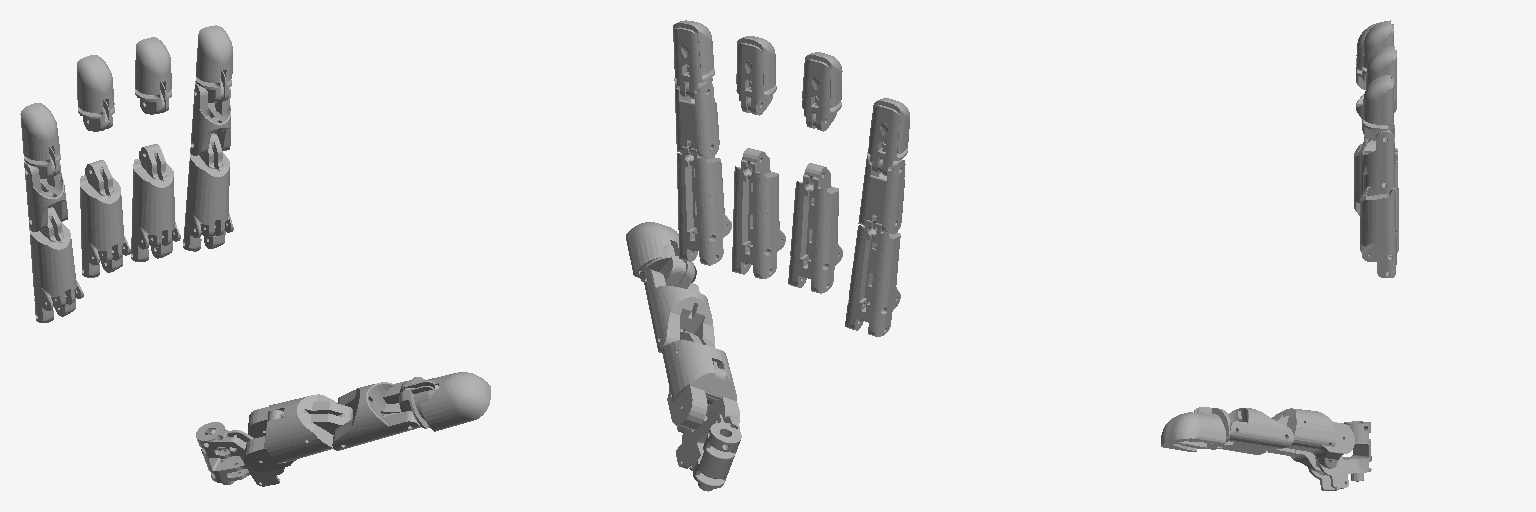
--- Facts derived from the render (not from the file) ---
3 views of the same robot in one strip: view 1: azimuth 30°, elevation 25°; view 2: azimuth 150°, elevation 25°; view 3: azimuth 270°, elevation 25° (orthographic).
Model URDF_09_19_25.SLDASM with 22 links and 21 joints (16 revolute, 5 fixed), rooted at base_link, posed every joint at zero.
Visible links, largest first — view 1: right_thumb_mcp_link, right_middle_proximal_link, right_ring_proximal_link, right_index_proximal_link, right_pinky_proximal_link, right_thumb_proximal_link, right_thumb_tip_link, right_t_link, right_index_middle_link, right_pinky_middle_link, right_pinky_tip_link, right_middle_tip_link (+7 smaller); view 2: right_middle_proximal_link, right_thumb_mcp_link, right_ring_proximal_link, right_index_proximal_link, right_pinky_proximal_link, right_thumb_proximal_link, right_t_link, right_index_middle_link, right_pinky_middle_link, right_middle_distal_link, right_ring_distal_link, right_pinky_distal_link (+7 smaller); view 3: right_thumb_mcp_link, right_index_proximal_link, right_thumb_proximal_link, right_t_link, right_thumb_tip_link, right_index_middle_link, right_index_tip_link, right_ring_tip_link, right_middle_tip_link, right_thumb_distal_link.
Boxes of the visible links, <box> form: right_thumb_mcp_link: <box>244,394,352,471</box>; right_middle_proximal_link: <box>131,144,180,261</box>; right_ring_proximal_link: <box>80,160,130,277</box>; right_index_proximal_link: <box>183,133,233,251</box>; right_pinky_proximal_link: <box>29,207,83,322</box>; right_thumb_proximal_link: <box>332,381,420,450</box>; right_thumb_tip_link: <box>420,372,490,431</box>; right_t_link: <box>196,422,284,486</box>; right_index_middle_link: <box>190,83,230,155</box>; right_pinky_middle_link: <box>24,161,67,231</box>; right_pinky_tip_link: <box>20,103,59,160</box>; right_middle_tip_link: <box>135,37,171,94</box>; right_middle_proximal_link: <box>732,148,785,278</box>; right_thumb_mcp_link: <box>662,332,739,432</box>; right_ring_proximal_link: <box>788,163,842,293</box>; right_index_proximal_link: <box>677,141,731,265</box>; right_pinky_proximal_link: <box>845,215,900,336</box>; right_thumb_proximal_link: <box>643,269,714,352</box>; right_t_link: <box>676,414,741,491</box>; right_index_middle_link: <box>674,78,719,158</box>; right_pinky_middle_link: <box>858,152,905,234</box>; right_middle_distal_link: <box>736,43,776,115</box>; right_ring_distal_link: <box>802,59,841,131</box>; right_pinky_distal_link: <box>868,105,907,175</box>; right_thumb_mcp_link: <box>1268,408,1354,471</box>; right_index_proximal_link: <box>1360,182,1396,277</box>; right_thumb_proximal_link: <box>1219,408,1293,454</box>; right_t_link: <box>1308,421,1371,490</box>; right_thumb_tip_link: <box>1161,412,1225,451</box>; right_index_middle_link: <box>1362,127,1394,193</box>; right_index_tip_link: <box>1363,75,1391,124</box>; right_ring_tip_link: <box>1363,20,1391,67</box>; right_middle_tip_link: <box>1366,46,1394,88</box>; right_thumb_distal_link: <box>1177,407,1233,449</box>.
Size in the robot's own frame: 0.164 by 0.1029 by 0.1934 metres.
Meshes: 22 distinct files referenced, 19 mesh visuals loaded (19 binary STL); not drawn: 3 (reference not matched to a file when rendering).

The robot description file, URDF, robot "URDF_09_19_25.SLDASM":
<?xml version="1.0" encoding="utf-8"?>
<!-- This URDF was automatically created by SolidWorks to URDF Exporter! Originally created by Stephen Brawner ([email redacted]) 
     Commit Version: 1.6.0-4-g7f85cfe  Build Version: 1.6.7995.38578
     For more information, please see http://wiki.ros.org/sw_urdf_exporter -->
<robot
  name="URDF_09_19_25.SLDASM">
  <link
    name="base_link">
    <inertial>
      <origin
        xyz="0.00109122507694746 0.00334946623951281 0.0489855934276007"
        rpy="0 0 0" />
      <mass
        value="0.303576106034272" />
      <inertia
        ixx="0.0003204846476097"
        ixy="2.62190795371995E-06"
        ixz="1.78273132959694E-05"
        iyy="0.000498321260315036"
        iyz="-1.89908549049557E-05"
        izz="0.000236845827410211" />
    </inertial>
    <visual>
      <origin
        xyz="0 0 0"
        rpy="0 0 0" />
      <geometry>
        <mesh
          filename="package://URDF_09_19_25.SLDASM/meshes/base_link.STL" />
      </geometry>
      <material
        name="">
        <color
          rgba="0.698039215686274 0.698039215686274 0.698039215686274 1" />
      </material>
    </visual>
    <collision>
      <origin
        xyz="0 0 0"
        rpy="0 0 0" />
      <geometry>
        <mesh
          filename="package://URDF_09_19_25.SLDASM/meshes/base_link.STL" />
      </geometry>
    </collision>
  </link>
  <link
    name="right_t_link">
    <inertial>
      <origin
        xyz="-0.000883525104759189 0.00170407980029484 0.00831028240403424"
        rpy="0 0 0" />
      <mass
        value="0.00833536405562315" />
      <inertia
        ixx="8.98196341850234E-07"
        ixy="5.06324261689494E-08"
        ixz="7.80847786775035E-08"
        iyy="6.56600038000196E-07"
        iyz="-1.15246746917096E-07"
        izz="4.94642305198558E-07" />
    </inertial>
    <visual>
      <origin
        xyz="0 0 0"
        rpy="0 0 0" />
      <geometry>
        <mesh
          filename="package://URDF_09_19_25.SLDASM/meshes/right_t_link.STL" />
      </geometry>
      <material
        name="">
        <color
          rgba="0.698039215686274 0.698039215686274 0.698039215686274 1" />
      </material>
    </visual>
    <collision>
      <origin
        xyz="0 0 0"
        rpy="0 0 0" />
      <geometry>
        <mesh
          filename="package://URDF_09_19_25.SLDASM/meshes/right_t_link.STL" />
      </geometry>
    </collision>
  </link>
  <joint
    name="right_thumb_cmc_abd"
    type="revolute">
    <origin
      xyz="0.028112 -0.0145 0.025363"
      rpy="-1.3549 0.27644 -2.4646" />
    <parent
      link="base_link" />
    <child
      link="right_t_link" />
    <axis
      xyz="0 1 0" />
    <limit
      lower="-0.92502"
      upper="0.8203"
      effort="0"
      velocity="0" />
  </joint>
  <link
    name="right_thumb_mcp_link">
    <inertial>
      <origin
        xyz="-1.9848E-07 0.00075445 0.014668"
        rpy="0 0 0" />
      <mass
        value="0.008207" />
      <inertia
        ixx="1.1501E-06"
        ixy="1.5891E-11"
        ixz="-2.1442E-11"
        iyy="1.2374E-06"
        iyz="2.9444E-08"
        izz="5.8804E-07" />
    </inertial>
    <visual>
      <origin
        xyz="0 0 0"
        rpy="0 0 0" />
      <geometry>
        <mesh
          filename="package://URDF_09_19_25.SLDASM/meshes/right_thumb_mcp_link.STL" />
      </geometry>
      <material
        name="">
        <color
          rgba="0.69804 0.69804 0.69804 1" />
      </material>
    </visual>
    <collision>
      <origin
        xyz="0 0 0"
        rpy="0 0 0" />
      <geometry>
        <mesh
          filename="package://URDF_09_19_25.SLDASM/meshes/right_thumb_mcp_link.STL" />
      </geometry>
    </collision>
  </link>
  <joint
    name="right_thumb_cmc_flex"
    type="revolute">
    <origin
      xyz="-0.003475 0.003808 0.019656"
      rpy="0.1325 -0.17906 0.26195" />
    <parent
      link="right_t_link" />
    <child
      link="right_thumb_mcp_link" />
    <axis
      xyz="1 0 0" />
    <limit
      lower="0"
      upper="0.9599"
      effort="0"
      velocity="0" />
  </joint>
  <link
    name="right_thumb_proximal_link">
    <inertial>
      <origin
        xyz="7.9121E-09 0.001007 0.011955"
        rpy="0 0 0" />
      <mass
        value="0.005471" />
      <inertia
        ixx="5.6266E-07"
        ixy="-1.2619E-11"
        ixz="4.6488E-12"
        iyy="6.6259E-07"
        iyz="1.0326E-08"
        izz="3.2352E-07" />
    </inertial>
    <visual>
      <origin
        xyz="0 0 0"
        rpy="0 0 0" />
      <geometry>
        <mesh
          filename="package://URDF_09_19_25.SLDASM/meshes/right_thumb_proximal_link.STL" />
      </geometry>
      <material
        name="">
        <color
          rgba="0.69804 0.69804 0.69804 1" />
      </material>
    </visual>
    <collision>
      <origin
        xyz="0 0 0"
        rpy="0 0 0" />
      <geometry>
        <mesh
          filename="package://URDF_09_19_25.SLDASM/meshes/right_thumb_proximal_link.STL" />
      </geometry>
    </collision>
  </link>
  <joint
    name="right_thumb_mcp"
    type="revolute">
    <origin
      xyz="0 0.0033822 0.035848"
      rpy="0 0 0" />
    <parent
      link="right_thumb_mcp_link" />
    <child
      link="right_thumb_proximal_link" />
    <axis
      xyz="1 0 0" />
    <limit
      lower="0"
      upper="1.5708"
      effort="0"
      velocity="0" />
  </joint>
  <link
    name="right_thumb_distal_link">
    <inertial>
      <origin
        xyz="-6.4155E-07 -0.0011983 0.010377"
        rpy="0 0 0" />
      <mass
        value="0.0032396" />
      <inertia
        ixx="2.7433E-07"
        ixy="3.5329E-12"
        ixz="1.7025E-11"
        iyy="2.5791E-07"
        iyz="-5.5405E-08"
        izz="1.196E-07" />
    </inertial>
    <visual>
      <origin
        xyz="0 0 0"
        rpy="0 0 0" />
      <geometry>
        <mesh
          filename="package://URDF_09_19_25.SLDASM/meshes/right_thumb_distal_link.STL" />
      </geometry>
      <material
        name="">
        <color
          rgba="0.69804 0.69804 0.69804 1" />
      </material>
    </visual>
    <collision>
      <origin
        xyz="0 0 0"
        rpy="0 0 0" />
      <geometry>
        <mesh
          filename="package://URDF_09_19_25.SLDASM/meshes/right_thumb_distal_link.STL" />
      </geometry>
    </collision>
  </link>
  <joint
    name="right_thumb_ip"
    type="revolute">
    <origin
      xyz="0 0.002206 0.029919"
      rpy="0 0 0" />
    <parent
      link="right_thumb_proximal_link" />
    <child
      link="right_thumb_distal_link" />
    <axis
      xyz="1 0 0" />
    <limit
      lower="0"
      upper="1.5708"
      effort="0"
      velocity="0" />
  </joint>
  <link
    name="right_thumb_tip_link">
    <inertial>
      <origin
        xyz="2.2383E-07 -0.010203 -0.013939"
        rpy="0 0 0" />
      <mass
        value="0.00086967" />
      <inertia
        ixx="5.0257E-08"
        ixy="-4.472E-12"
        ixz="-3.8747E-12"
        iyy="6.2025E-08"
        iyz="-8.6371E-09"
        izz="3.845E-08" />
    </inertial>
    <visual>
      <origin
        xyz="0 0 0"
        rpy="0 0 0" />
      <geometry>
        <mesh
          filename="package://URDF_09_19_25.SLDASM/meshes/right_thumb_tip_link.STL" />
      </geometry>
      <material
        name="">
        <color
          rgba="0.69804 0.69804 0.69804 1" />
      </material>
    </visual>
    <collision>
      <origin
        xyz="0 0 0"
        rpy="0 0 0" />
      <geometry>
        <mesh
          filename="package://URDF_09_19_25.SLDASM/meshes/right_thumb_tip_link.STL" />
      </geometry>
    </collision>
  </link>
  <joint
    name="right_thumb_tip"
    type="fixed">
    <origin
      xyz="0 0.0059474 0.031823"
      rpy="0 0 0" />
    <parent
      link="right_thumb_distal_link" />
    <child
      link="right_thumb_tip_link" />
    <axis
      xyz="0 0 0" />
  </joint>
  <link
    name="right_index_proximal_link">
    <inertial>
      <origin
        xyz="4.30529992941076E-08 -0.0024559603959039 0.0191142514901699"
        rpy="0 0 0" />
      <mass
        value="0.00720026836301954" />
      <inertia
        ixx="1.11576979742814E-06"
        ixy="-2.42664231429577E-12"
        ixz="-8.53111702205322E-12"
        iyy="1.1011227010753E-06"
        iyz="1.07385658133945E-07"
        izz="2.80496727013047E-07" />
    </inertial>
    <visual>
      <origin
        xyz="0 0 0"
        rpy="0 0 0" />
      <geometry>
        <mesh
          filename="package://URDF_09_19_25.SLDASM/meshes/right_index_proximal_link.STL" />
      </geometry>
      <material
        name="">
        <color
          rgba="0.698039215686274 0.698039215686274 0.698039215686274 1" />
      </material>
    </visual>
    <collision>
      <origin
        xyz="0 0 0"
        rpy="0 0 0" />
      <geometry>
        <mesh
          filename="package://URDF_09_19_25.SLDASM/meshes/right_index_proximal_link.STL" />
      </geometry>
    </collision>
  </link>
  <joint
    name="right_index_mcp_flex"
    type="revolute">
    <origin
      xyz="0.030626 -0.0011782 0.10542"
      rpy="0 0.05236 -0.034907" />
    <parent
      link="base_link" />
    <child
      link="right_index_proximal_link" />
    <axis
      xyz="1 0 0" />
    <limit
      lower="0"
      upper="1.5708"
      effort="0"
      velocity="0" />
  </joint>
  <link
    name="right_index_middle_link">
    <inertial>
      <origin
        xyz="-6.47985752902369E-09 -0.000363269614703799 0.00876079008757696"
        rpy="0 0 0" />
      <mass
        value="0.00276150356687874" />
      <inertia
        ixx="1.80416885776444E-07"
        ixy="1.11705685747945E-13"
        ixz="-3.17914278530766E-14"
        iyy="1.9897239153381E-07"
        iyz="7.6558277494112E-09"
        izz="8.93351684671892E-08" />
    </inertial>
    <visual>
      <origin
        xyz="0 0 0"
        rpy="0 0 0" />
      <geometry>
        <mesh
          filename="package://URDF_09_19_25.SLDASM/meshes/right_index_middle_link.STL" />
      </geometry>
      <material
        name="">
        <color
          rgba="0.698039215686274 0.698039215686274 0.698039215686274 1" />
      </material>
    </visual>
    <collision>
      <origin
        xyz="0 0 0"
        rpy="0 0 0" />
      <geometry>
        <mesh
          filename="package://URDF_09_19_25.SLDASM/meshes/right_index_middle_link.STL" />
      </geometry>
    </collision>
  </link>
  <joint
    name="right_index_pip"
    type="revolute">
    <origin
      xyz="0 -0.0014554 0.043"
      rpy="0 0 0" />
    <parent
      link="right_index_proximal_link" />
    <child
      link="right_index_middle_link" />
    <axis
      xyz="1 0 0" />
    <limit
      lower="0"
      upper="1.5708"
      effort="0"
      velocity="0" />
  </joint>
  <link
    name="right_index_distal_link">
    <inertial>
      <origin
        xyz="3.34671961321059E-07 -0.00120224143694181 0.00777234707760652"
        rpy="0 0 0" />
      <mass
        value="0.00183663667769987" />
      <inertia
        ixx="1.0824117936487E-07"
        ixy="2.22622444751556E-12"
        ixz="4.51561065548065E-13"
        iyy="1.0024267178837E-07"
        iyz="-1.85905628716286E-08"
        izz="3.57211667407306E-08" />
    </inertial>
    <visual>
      <origin
        xyz="0 0 0"
        rpy="0 0 0" />
      <geometry>
        <mesh
          filename="package://URDF_09_19_25.SLDASM/meshes/right_index_distal_link.STL" />
      </geometry>
      <material
        name="">
        <color
          rgba="0.698039215686274 0.698039215686274 0.698039215686274 1" />
      </material>
    </visual>
    <collision>
      <origin
        xyz="0 0 0"
        rpy="0 0 0" />
      <geometry>
        <mesh
          filename="package://URDF_09_19_25.SLDASM/meshes/right_index_distal_link.STL" />
      </geometry>
    </collision>
  </link>
  <joint
    name="right_index_dip"
    type="revolute">
    <origin
      xyz="0 0 0.022"
      rpy="0 0 0" />
    <parent
      link="right_index_middle_link" />
    <child
      link="right_index_distal_link" />
    <axis
      xyz="1 0 0" />
    <limit
      lower="0"
      upper="1.5708"
      effort="0"
      velocity="0" />
  </joint>
  <link
    name="right_index_tip_link">
    <inertial>
      <origin
        xyz="2.3798090519056E-08 -0.00705353273135757 -0.0124434081224676"
        rpy="0 0 0" />
      <mass
        value="0.000390243409160287" />
      <inertia
        ixx="1.25259152366009E-08"
        ixy="4.25868635620944E-13"
        ixz="-9.33846395984465E-14"
        iyy="1.44813957341742E-08"
        iyz="-2.01061097814808E-09"
        izz="8.29652914701066E-09" />
    </inertial>
    <visual>
      <origin
        xyz="0 0 0"
        rpy="0 0 0" />
      <geometry>
        <mesh
          filename="package://URDF_09_19_25.SLDASM/meshes/right_index_tip_link.STL" />
      </geometry>
      <material
        name="">
        <color
          rgba="0.698039215686274 0.698039215686274 0.698039215686274 1" />
      </material>
    </visual>
    <collision>
      <origin
        xyz="0 0 0"
        rpy="0 0 0" />
      <geometry>
        <mesh
          filename="package://URDF_09_19_25.SLDASM/meshes/right_index_tip_link.STL" />
      </geometry>
    </collision>
  </link>
  <joint
    name="right_index_tip"
    type="fixed">
    <origin
      xyz="0 0.003512 0.026776"
      rpy="0 0 0" />
    <parent
      link="right_index_distal_link" />
    <child
      link="right_index_tip_link" />
    <axis
      xyz="0 0 0" />
  </joint>
  <link
    name="right_middle_proximal_link">
    <inertial>
      <origin
        xyz="3.04863738940235E-08 -0.00245596411252013 0.0191142544123753"
        rpy="0 0 0" />
      <mass
        value="0.0072002618370038" />
      <inertia
        ixx="1.11576923655936E-06"
        ixy="-2.87314711925059E-12"
        ixz="-7.93183989281095E-12"
        iyy="1.10112189499846E-06"
        iyz="1.07384680629995E-07"
        izz="2.80496366633981E-07" />
    </inertial>
    <visual>
      <origin
        xyz="0 0 0"
        rpy="0 0 0" />
      <geometry>
        <mesh
          filename="package://URDF_09_19_25.SLDASM/meshes/right_middle_proximal_link.STL" />
      </geometry>
      <material
        name="">
        <color
          rgba="0.698039215686274 0.698039215686274 0.698039215686274 1" />
      </material>
    </visual>
    <collision>
      <origin
        xyz="0 0 0"
        rpy="0 0 0" />
      <geometry>
        <mesh
          filename="package://URDF_09_19_25.SLDASM/meshes/right_middle_proximal_link.STL" />
      </geometry>
    </collision>
  </link>
  <joint
    name="right_middle_mcp_flex"
    type="revolute">
    <origin
      xyz="0.0075 0 0.106"
      rpy="0 0 0" />
    <parent
      link="base_link" />
    <child
      link="right_middle_proximal_link" />
    <axis
      xyz="1 0 0" />
    <limit
      lower="0"
      upper="1.5708"
      effort="0"
      velocity="0" />
  </joint>
  <link
    name="right_middle_link">
    <inertial>
      <origin
        xyz="-2.85973601964011E-09 -0.000363264332488778 0.00876078146450842"
        rpy="0 0 0" />
      <mass
        value="0.00276150069139886" />
      <inertia
        ixx="1.80416617173586E-07"
        ixy="1.53011003427557E-13"
        ixz="-1.41103664305574E-13"
        iyy="1.9897228701034E-07"
        iyz="7.6556903630071E-09"
        izz="8.9334989431654E-08" />
    </inertial>
    <visual>
      <origin
        xyz="0 0 0"
        rpy="0 0 0" />
      <geometry>
        <mesh
          filename="package://URDF_09_19_25.SLDASM/meshes/right_middle_link.STL" />
      </geometry>
      <material
        name="">
        <color
          rgba="0.698039215686274 0.698039215686274 0.698039215686274 1" />
      </material>
    </visual>
    <collision>
      <origin
        xyz="0 0 0"
        rpy="0 0 0" />
      <geometry>
        <mesh
          filename="package://URDF_09_19_25.SLDASM/meshes/right_middle_link.STL" />
      </geometry>
    </collision>
  </link>
  <joint
    name="right_middle_pip"
    type="revolute">
    <origin
      xyz="0 -0.0014554 0.043"
      rpy="0 0 0" />
    <parent
      link="right_middle_proximal_link" />
    <child
      link="right_middle_link" />
    <axis
      xyz="1 0 0" />
    <limit
      lower="0"
      upper="1.5708"
      effort="0"
      velocity="0" />
  </joint>
  <link
    name="right_middle_distal_link">
    <inertial>
      <origin
        xyz="1.25205983373364E-07 -0.00120223641223895 0.00777324919661349"
        rpy="0 0 0" />
      <mass
        value="0.00183690507488675" />
      <inertia
        ixx="1.08253108089546E-07"
        ixy="2.19334961795908E-12"
        ixz="2.52507113254221E-12"
        iyy="1.00254686909563E-07"
        iyz="-1.85902271227329E-08"
        izz="3.57231402201655E-08" />
    </inertial>
    <visual>
      <origin
        xyz="0 0 0"
        rpy="0 0 0" />
      <geometry>
        <mesh
          filename="package://URDF_09_19_25.SLDASM/meshes/right_middle_distal_link.STL" />
      </geometry>
      <material
        name="">
        <color
          rgba="0.698039215686274 0.698039215686274 0.698039215686274 1" />
      </material>
    </visual>
    <collision>
      <origin
        xyz="0 0 0"
        rpy="0 0 0" />
      <geometry>
        <mesh
          filename="package://URDF_09_19_25.SLDASM/meshes/right_middle_distal_link.STL" />
      </geometry>
    </collision>
  </link>
  <joint
    name="right_middle_dip"
    type="revolute">
    <origin
      xyz="0 0 0.022"
      rpy="0 0 0" />
    <parent
      link="right_middle_link" />
    <child
      link="right_middle_distal_link" />
    <axis
      xyz="1 0 0" />
    <limit
      lower="0"
      upper="1.5708"
      effort="0"
      velocity="0" />
  </joint>
  <link
    name="right_middle_tip_link">
    <inertial>
      <origin
        xyz="-7.96462318148356E-08 -0.00705328274533182 -0.0124432893968912"
        rpy="0 0 0" />
      <mass
        value="0.00039026895252879" />
      <inertia
        ixx="1.25266915345569E-08"
        ixy="5.60524152388939E-13"
        ixz="-1.88623261128416E-14"
        iyy="1.44817171092233E-08"
        iyz="-2.010901422928E-09"
        izz="8.29712543914407E-09" />
    </inertial>
    <visual>
      <origin
        xyz="0 0 0"
        rpy="0 0 0" />
      <geometry>
        <mesh
          filename="package://URDF_09_19_25.SLDASM/meshes/right_middle_tip_link.STL" />
      </geometry>
      <material
        name="">
        <color
          rgba="0.698039215686274 0.698039215686274 0.698039215686274 1" />
      </material>
    </visual>
    <collision>
      <origin
        xyz="0 0 0"
        rpy="0 0 0" />
      <geometry>
        <mesh
          filename="package://URDF_09_19_25.SLDASM/meshes/right_middle_tip_link.STL" />
      </geometry>
    </collision>
  </link>
  <joint
    name="right_middle_tip_link"
    type="fixed">
    <origin
      xyz="0 0.003512 0.026776"
      rpy="0 0 0" />
    <parent
      link="right_middle_distal_link" />
    <child
      link="right_middle_tip_link" />
    <axis
      xyz="0 0 0" />
  </joint>
  <link
    name="right_ring_proximal_link">
    <inertial>
      <origin
        xyz="-2.24219388229863E-08 -0.00245596869794189 0.0191142172606163"
        rpy="0 0 0" />
      <mass
        value="0.00720026581090036" />
      <inertia
        ixx="1.11577050567807E-06"
        ixy="5.89521141957177E-14"
        ixz="1.83895388831523E-12"
        iyy="1.10112290329168E-06"
        iyz="1.07384543663671E-07"
        izz="2.8049685394292E-07" />
    </inertial>
    <visual>
      <origin
        xyz="0 0 0"
        rpy="0 0 0" />
      <geometry>
        <mesh
          filename="package://URDF_09_19_25.SLDASM/meshes/right_ring_proximal_link.STL" />
      </geometry>
      <material
        name="">
        <color
          rgba="0.698039215686274 0.698039215686274 0.698039215686274 1" />
      </material>
    </visual>
    <collision>
      <origin
        xyz="0 0 0"
        rpy="0 0 0" />
      <geometry>
        <mesh
          filename="package://URDF_09_19_25.SLDASM/meshes/right_ring_proximal_link.STL" />
      </geometry>
    </collision>
  </link>
  <joint
    name="right_ring_mcp_flex"
    type="revolute">
    <origin
      xyz="-0.015626 -0.0011782 0.10542"
      rpy="0 -0.05236 0.034907" />
    <parent
      link="base_link" />
    <child
      link="right_ring_proximal_link" />
    <axis
      xyz="1 0 0" />
    <limit
      lower="0"
      upper="1.5708"
      effort="0"
      velocity="0" />
  </joint>
  <link
    name=" right_ring_middle_link">
    <inertial>
      <origin
        xyz="-1.05768104170789E-08 -0.000363267692106015 0.00876078358138278"
        rpy="0 0 0" />
      <mass
        value="0.00276150640462905" />
      <inertia
        ixx="1.80417110518944E-07"
        ixy="2.51240159687594E-13"
        ixz="-1.96663252625615E-13"
        iyy="1.98972658288888E-07"
        iyz="7.65587908401087E-09"
        izz="8.93352335930394E-08" />
    </inertial>
    <visual>
      <origin
        xyz="0 0 0"
        rpy="0 0 0" />
      <geometry>
        <mesh
          filename="package://URDF_09_19_25.SLDASM/meshes/ right_ring_middle_link.STL" />
      </geometry>
      <material
        name="">
        <color
          rgba="0.698039215686274 0.698039215686274 0.698039215686274 1" />
      </material>
    </visual>
    <collision>
      <origin
        xyz="0 0 0"
        rpy="0 0 0" />
      <geometry>
        <mesh
          filename="package://URDF_09_19_25.SLDASM/meshes/ right_ring_middle_link.STL" />
      </geometry>
    </collision>
  </link>
  <joint
    name="right_ring_pip"
    type="revolute">
    <origin
      xyz="0 -0.0014554 0.043"
      rpy="0 0 0" />
    <parent
      link="right_ring_proximal_link" />
    <child
      link=" right_ring_middle_link" />
    <axis
      xyz="1 0 0" />
    <limit
      lower="0"
      upper="1.5708"
      effort="0"
      velocity="0" />
  </joint>
  <link
    name="right_ring_distal_link">
    <inertial>
      <origin
        xyz="4.41236248528015E-07 -0.00120206116795719 0.0077717480697731"
        rpy="0 0 0" />
      <mass
        value="0.00183637337497735" />
      <inertia
        ixx="1.08230484308911E-07"
        ixy="3.2022518221628E-12"
        ixz="1.46160641586203E-14"
        iyy="1.00234337412801E-07"
        iyz="-1.85889383348734E-08"
        izz="3.57187511592097E-08" />
    </inertial>
    <visual>
      <origin
        xyz="0 0 0"
        rpy="0 0 0" />
      <geometry>
        <mesh
          filename="package://URDF_09_19_25.SLDASM/meshes/right_ring_distal_link.STL" />
      </geometry>
      <material
        name="">
        <color
          rgba="0.698039215686274 0.698039215686274 0.698039215686274 1" />
      </material>
    </visual>
    <collision>
      <origin
        xyz="0 0 0"
        rpy="0 0 0" />
      <geometry>
        <mesh
          filename="package://URDF_09_19_25.SLDASM/meshes/right_ring_distal_link.STL" />
      </geometry>
    </collision>
  </link>
  <joint
    name="right_ring_dip"
    type="revolute">
    <origin
      xyz="0 0 0.022"
      rpy="0 0 0" />
    <parent
      link=" right_ring_middle_link" />
    <child
      link="right_ring_distal_link" />
    <axis
      xyz="1 0 0" />
    <limit
      lower="0"
      upper="1.5708"
      effort="0"
      velocity="0" />
  </joint>
  <link
    name="right_ring_tip_link">
    <inertial>
      <origin
        xyz="-5.22173938463655E-09 -0.00705335731849239 -0.0124436468089668"
        rpy="0 0 0" />
      <mass
        value="0.000390294473374687" />
      <inertia
        ixx="1.2527015161699E-08"
        ixy="6.38921187964615E-13"
        ixz="1.87641904044513E-13"
        iyy="1.44821293282657E-08"
        iyz="-2.01081673399935E-09"
        izz="8.29710673013565E-09" />
    </inertial>
    <visual>
      <origin
        xyz="0 0 0"
        rpy="0 0 0" />
      <geometry>
        <mesh
          filename="package://URDF_09_19_25.SLDASM/meshes/right_ring_tip_link.STL" />
      </geometry>
      <material
        name="">
        <color
          rgba="0.698039215686274 0.698039215686274 0.698039215686274 1" />
      </material>
    </visual>
    <collision>
      <origin
        xyz="0 0 0"
        rpy="0 0 0" />
      <geometry>
        <mesh
          filename="package://URDF_09_19_25.SLDASM/meshes/right_ring_tip_link.STL" />
      </geometry>
    </collision>
  </link>
  <joint
    name="right_ring_tip"
    type="fixed">
    <origin
      xyz="0 0.003512 0.026776"
      rpy="0 0 0" />
    <parent
      link="right_ring_distal_link" />
    <child
      link="right_ring_tip_link" />
    <axis
      xyz="0 0 0" />
  </joint>
  <link
    name="right_pinky_proximal_link">
    <inertial>
      <origin
        xyz="-2.95727574026183E-08 -0.00245597557732571 0.0191142201685638"
        rpy="0 0 0" />
      <mass
        value="0.00720026164932404" />
      <inertia
        ixx="1.11576993679738E-06"
        ixy="-4.21493357126095E-14"
        ixz="1.40217613791255E-12"
        iyy="1.10112215482059E-06"
        iyz="1.07383854570091E-07"
        izz="2.80496245620477E-07" />
    </inertial>
    <visual>
      <origin
        xyz="0 0 0"
        rpy="0 0 0" />
      <geometry>
        <mesh
          filename="package://URDF_09_19_25.SLDASM/meshes/right_pinky_proximal_link.STL" />
      </geometry>
      <material
        name="">
        <color
          rgba="0.698039215686274 0.698039215686274 0.698039215686274 1" />
      </material>
    </visual>
    <collision>
      <origin
        xyz="0 0 0"
        rpy="0 0 0" />
      <geometry>
        <mesh
          filename="package://URDF_09_19_25.SLDASM/meshes/right_pinky_proximal_link.STL" />
      </geometry>
    </collision>
  </link>
  <joint
    name="right_pinky_mcp_flex"
    type="revolute">
    <origin
      xyz="-0.038266 -0.0036416 0.092393"
      rpy="0 -0.10472 0.069946" />
    <parent
      link="base_link" />
    <child
      link="right_pinky_proximal_link" />
    <axis
      xyz="1 0 0" />
    <limit
      lower="0"
      upper="1.5708"
      effort="0"
      velocity="0" />
  </joint>
  <link
    name="right_pinky_middle_link">
    <inertial>
      <origin
        xyz="-7.30330518283751E-09 -0.000363268490759203 0.00876078540200605"
        rpy="0 0 0" />
      <mass
        value="0.00276150617991104" />
      <inertia
        ixx="1.80417146629369E-07"
        ixy="2.77370887761691E-13"
        ixz="-2.37462864018002E-13"
        iyy="1.98972592220503E-07"
        iyz="7.65598318320784E-09"
        izz="8.9335305249386E-08" />
    </inertial>
    <visual>
      <origin
        xyz="0 0 0"
        rpy="0 0 0" />
      <geometry>
        <mesh
          filename="package://URDF_09_19_25.SLDASM/meshes/right_pinky_middle_link.STL" />
      </geometry>
      <material
        name="">
        <color
          rgba="0.698039215686274 0.698039215686274 0.698039215686274 1" />
      </material>
    </visual>
    <collision>
      <origin
        xyz="0 0 0"
        rpy="0 0 0" />
      <geometry>
        <mesh
          filename="package://URDF_09_19_25.SLDASM/meshes/right_pinky_middle_link.STL" />
      </geometry>
    </collision>
  </link>
  <joint
    name="right_pinky_pip"
    type="revolute">
    <origin
      xyz="0 -0.0014554 0.043"
      rpy="0 0 0" />
    <parent
      link="right_pinky_proximal_link" />
    <child
      link="right_pinky_middle_link" />
    <axis
      xyz="1 0 0" />
    <limit
      lower="0"
      upper="1.5708"
      effort="0"
      velocity="0" />
  </joint>
  <link
    name="right_pinky_distal_link">
    <inertial>
      <origin
        xyz="4.31454935043152E-07 -0.00120202346438717 0.00777263499391853"
        rpy="0 0 0" />
      <mass
        value="0.00183662951045839" />
      <inertia
        ixx="1.08241793280288E-07"
        ixy="3.02667643229166E-12"
        ixz="-1.26562320795476E-13"
        iyy="1.00245694664433E-07"
        iyz="-1.85886254587434E-08"
        izz="3.57206185143609E-08" />
    </inertial>
    <visual>
      <origin
        xyz="0 0 0"
        rpy="0 0 0" />
      <geometry>
        <mesh
          filename="package://URDF_09_19_25.SLDASM/meshes/right_pinky_distal_link.STL" />
      </geometry>
      <material
        name="">
        <color
          rgba="0.698039215686274 0.698039215686274 0.698039215686274 1" />
      </material>
    </visual>
    <collision>
      <origin
        xyz="0 0 0"
        rpy="0 0 0" />
      <geometry>
        <mesh
          filename="package://URDF_09_19_25.SLDASM/meshes/right_pinky_distal_link.STL" />
      </geometry>
    </collision>
  </link>
  <joint
    name="right_pinky_dip"
    type="revolute">
    <origin
      xyz="0 0 0.022"
      rpy="0 0 0" />
    <parent
      link="right_pinky_middle_link" />
    <child
      link="right_pinky_distal_link" />
    <axis
      xyz="1 0 0" />
    <limit
      lower="0"
      upper="1.5708"
      effort="0"
      velocity="0" />
  </joint>
  <link
    name="right_pinky_tip_link">
    <inertial>
      <origin
        xyz="2.46097005066059E-08 -0.00705336045711742 -0.0124436503190868"
        rpy="0 0 0" />
      <mass
        value="0.000390294871676775" />
      <inertia
        ixx="1.25269642086474E-08"
        ixy="6.55526982406491E-13"
        ixz="1.63004750347713E-13"
        iyy="1.44821656097282E-08"
        iyz="-2.01083751842275E-09"
        izz="8.2971291296249E-09" />
    </inertial>
    <visual>
      <origin
        xyz="0 0 0"
        rpy="0 0 0" />
      <geometry>
        <mesh
          filename="package://URDF_09_19_25.SLDASM/meshes/right_pinky_tip_link.STL" />
      </geometry>
      <material
        name="">
        <color
          rgba="0.698039215686274 0.698039215686274 0.698039215686274 1" />
      </material>
    </visual>
    <collision>
      <origin
        xyz="0 0 0"
        rpy="0 0 0" />
      <geometry>
        <mesh
          filename="package://URDF_09_19_25.SLDASM/meshes/right_pinky_tip_link.STL" />
      </geometry>
    </collision>
  </link>
  <joint
    name="right_pinky_tip"
    type="fixed">
    <origin
      xyz="0 0.003512 0.026776"
      rpy="0 0 0" />
    <parent
      link="right_pinky_distal_link" />
    <child
      link="right_pinky_tip_link" />
    <axis
      xyz="0 0 0" />
  </joint>
</robot>
